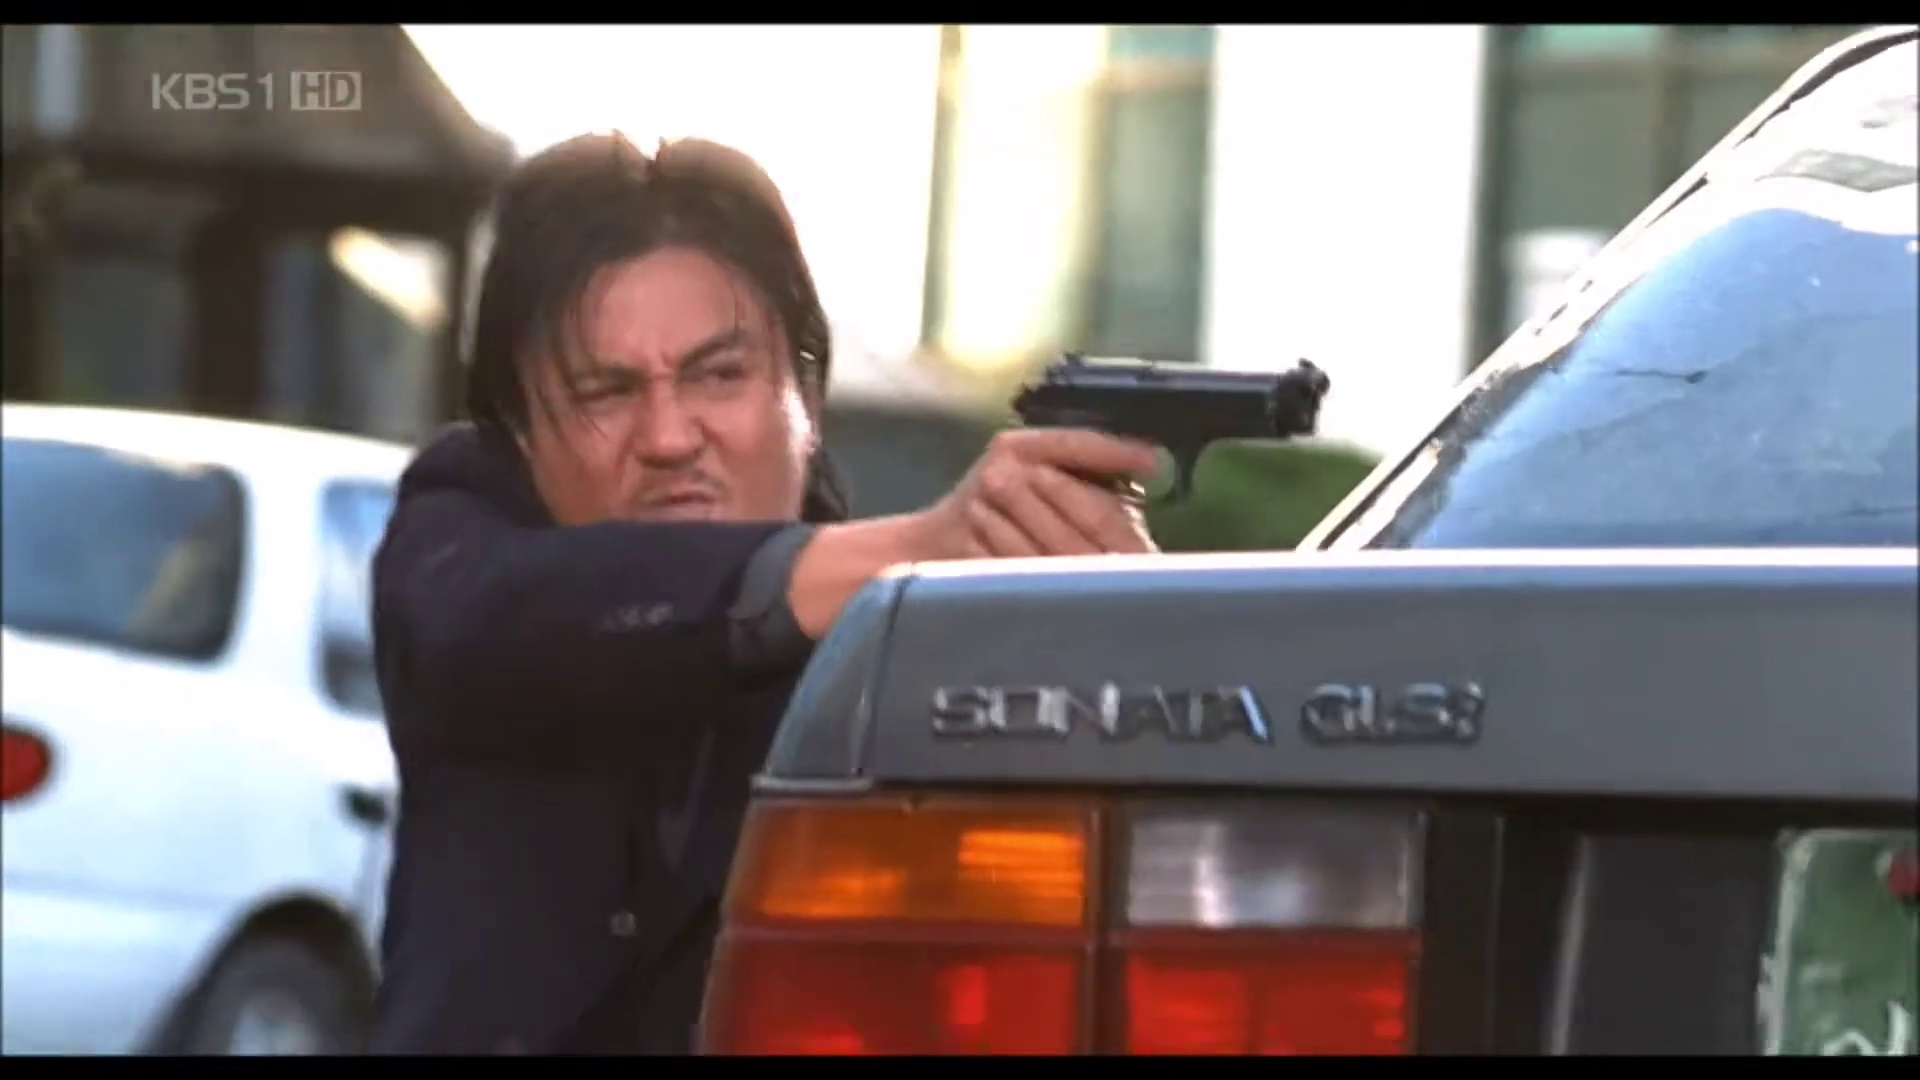gun: (1000, 344, 1335, 516)
p_w_gun: (361, 125, 1331, 1042)
